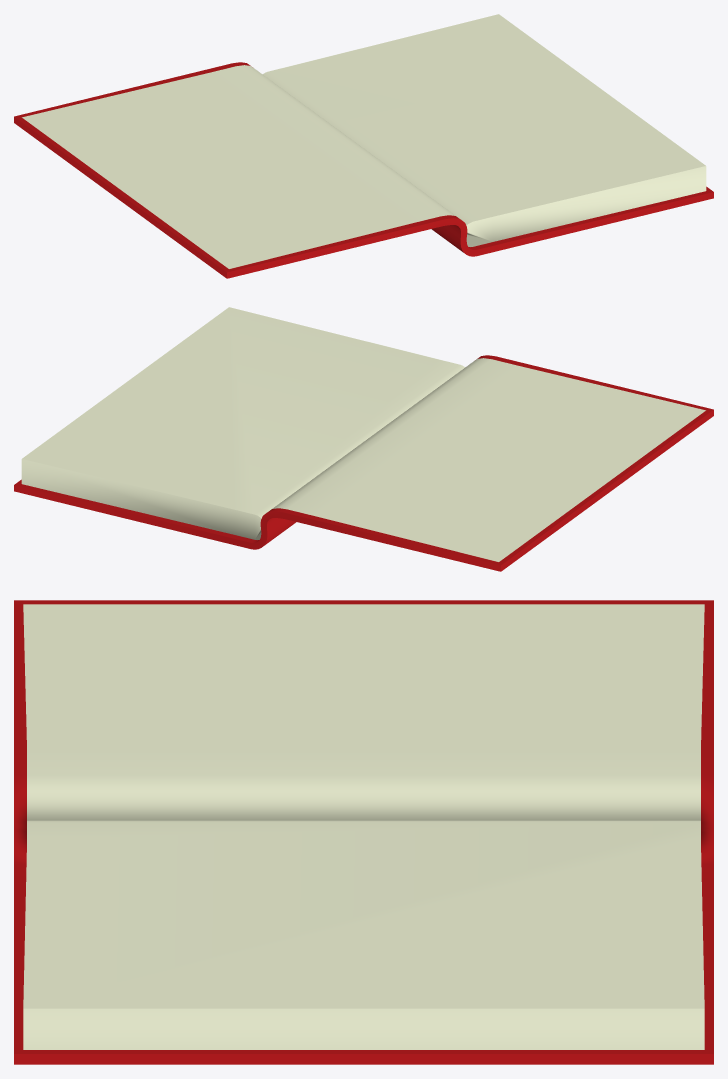
File: JournalOpened.fbx
3 renders of one model, top to bottom at view 1: azimuth 30°, elevation 25°; view 2: azimuth 150°, elevation 25°; view 3: azimuth 270°, elevation 25°, orthographic. The views are drawn at different scales.
Parts seen in each view (by area): view 1: Book.001; view 2: Book.001; view 3: Book.001.
Boxes of the visible parts, <box> form: Book.001: <box>14,14,713,278</box>; Book.001: <box>14,307,713,571</box>; Book.001: <box>14,600,713,1064</box>.
Size of the model in its own units: 384 by 33.76 by 291.
